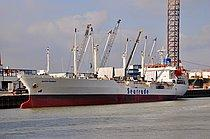Ship: (9, 60, 195, 112)
